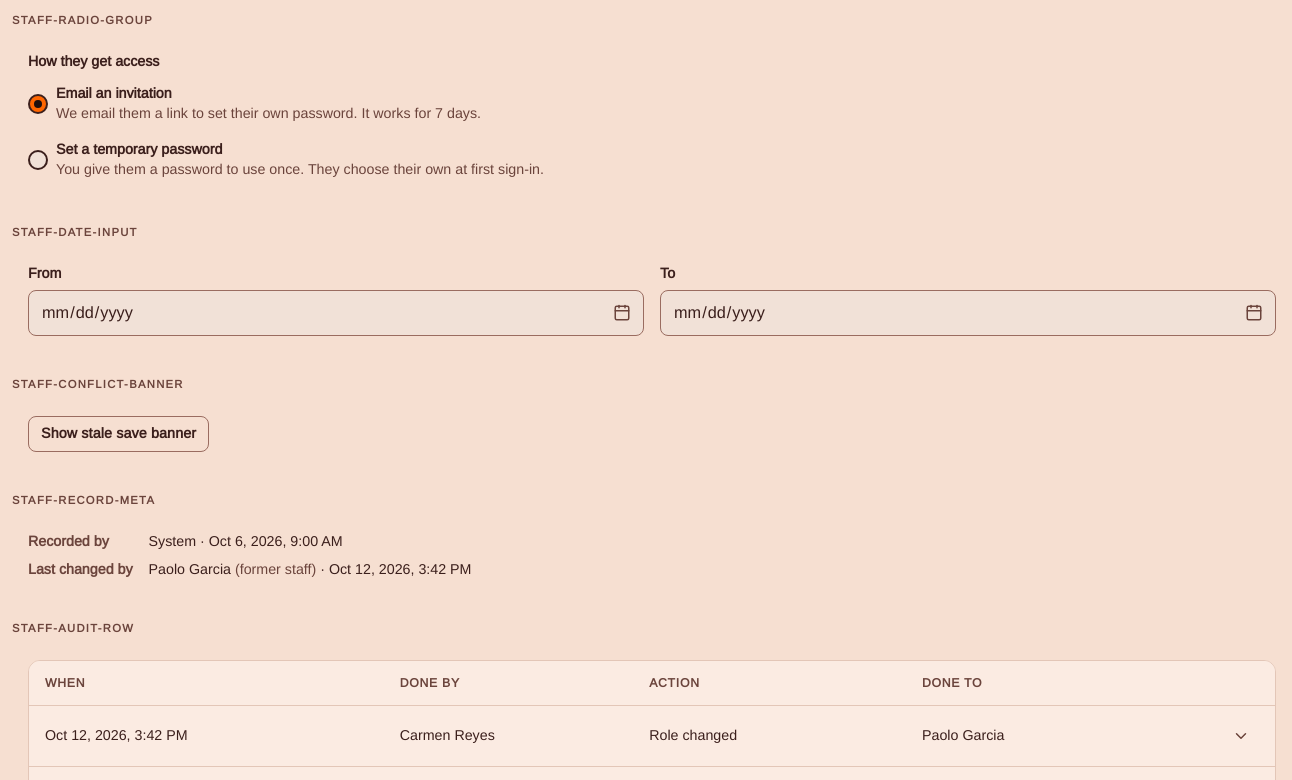
Test: Phase5Demos: the primitives › keeps the stale-save banner behind a button so the page never moves focus on load, then Load Latest hides it
Click the button "Show stale save banner" at (119, 434), box [28, 416, 209, 452]
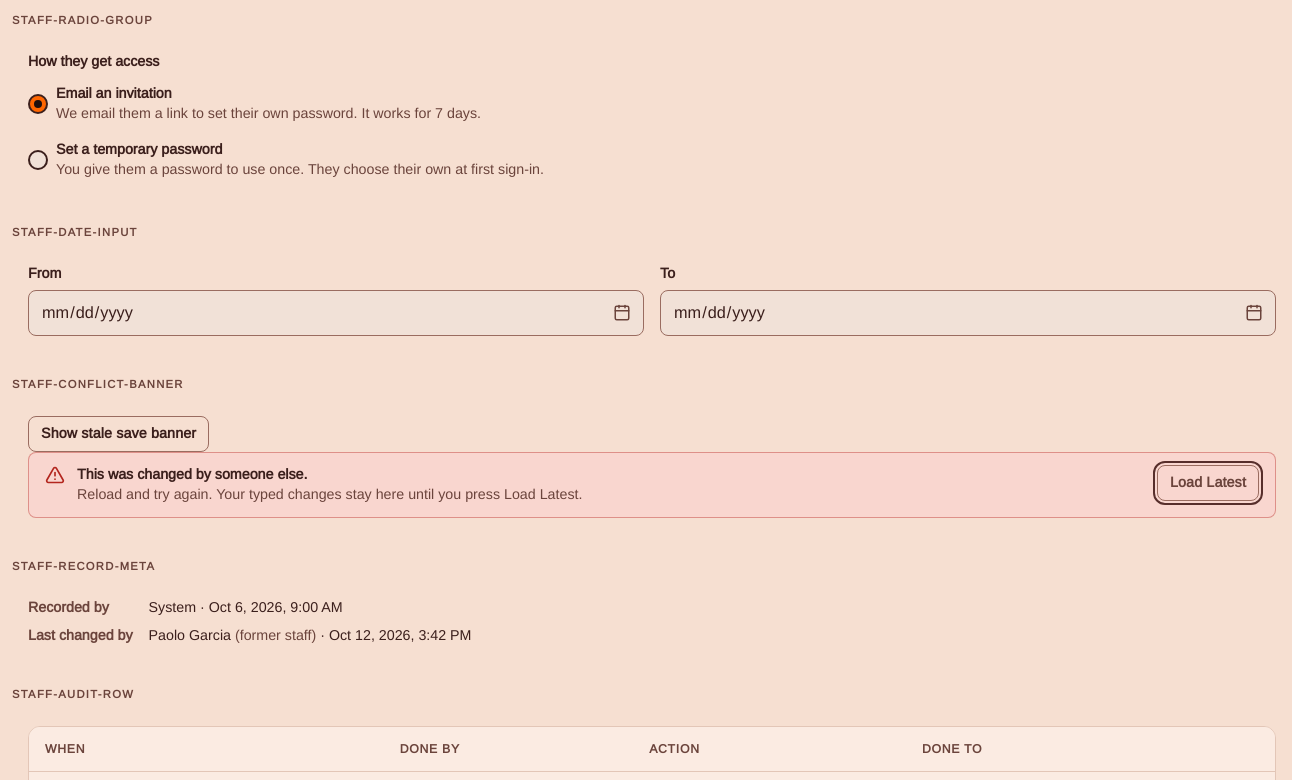
Check: the message shows "This was changed by someone else.", box [77, 467, 308, 482]
Click the button "Load Latest" at (1208, 483), box [1157, 465, 1259, 501]
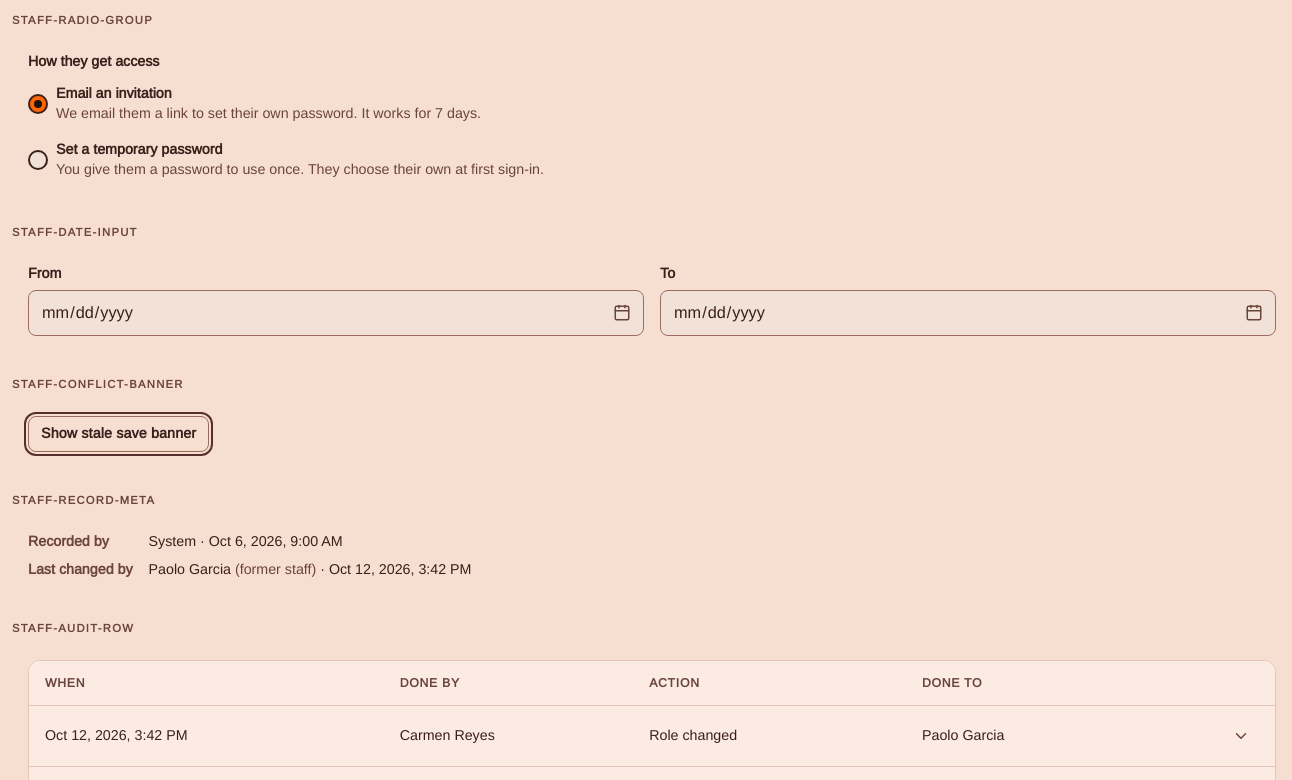
Check: the message "This was changed by someone else. Reload and try again. Your typed changes stay" is gone
